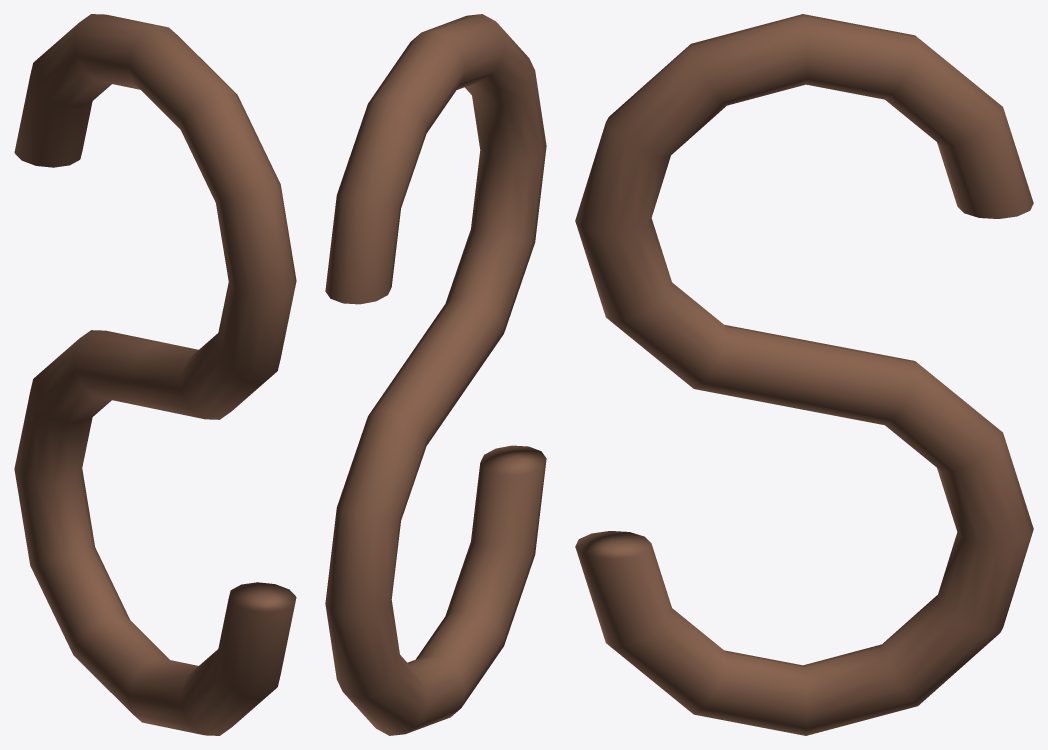
The model's file is Kitchen_set_Kitchen_set_Kitchen_set_Props_grp_Kitchen_set_North_grp_Kitchen_set_NorthWall_grp_Kitchen_set_Hook_3.obj.
The picture shows the model from 3 angles, left to right: view 1: azimuth 30°, elevation 25°; view 2: azimuth 150°, elevation 25°; view 3: azimuth 270°, elevation 25°; orthographic projection. The views are drawn at different scales.
Visible parts, largest first — view 1: Kitchen_set_Hook1 NCCA_Export; view 2: Kitchen_set_Hook1 NCCA_Export; view 3: Kitchen_set_Hook1 NCCA_Export.
Boxes of the visible parts, x1,y1,x2,y2 form: Kitchen_set_Hook1 NCCA_Export: (14,14,296,735); Kitchen_set_Hook1 NCCA_Export: (325,14,546,735); Kitchen_set_Hook1 NCCA_Export: (575,14,1033,735).
Size of the model in its own units: 0.1284 by 1 by 0.5801.
